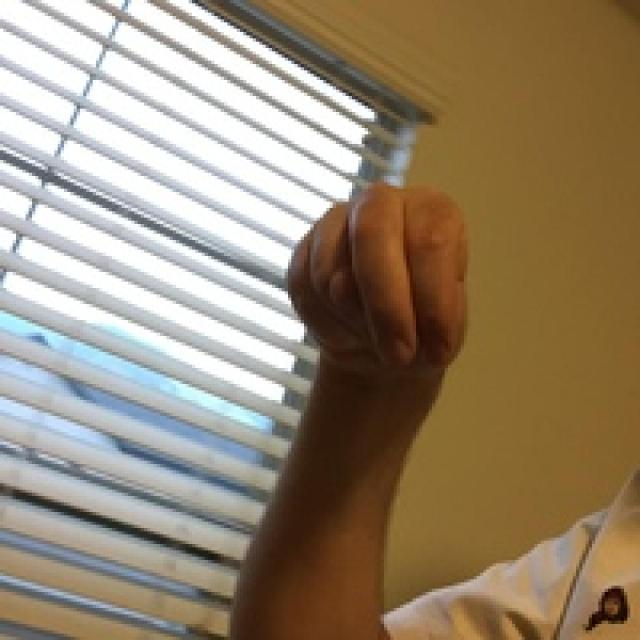N: (184, 95, 498, 463)
